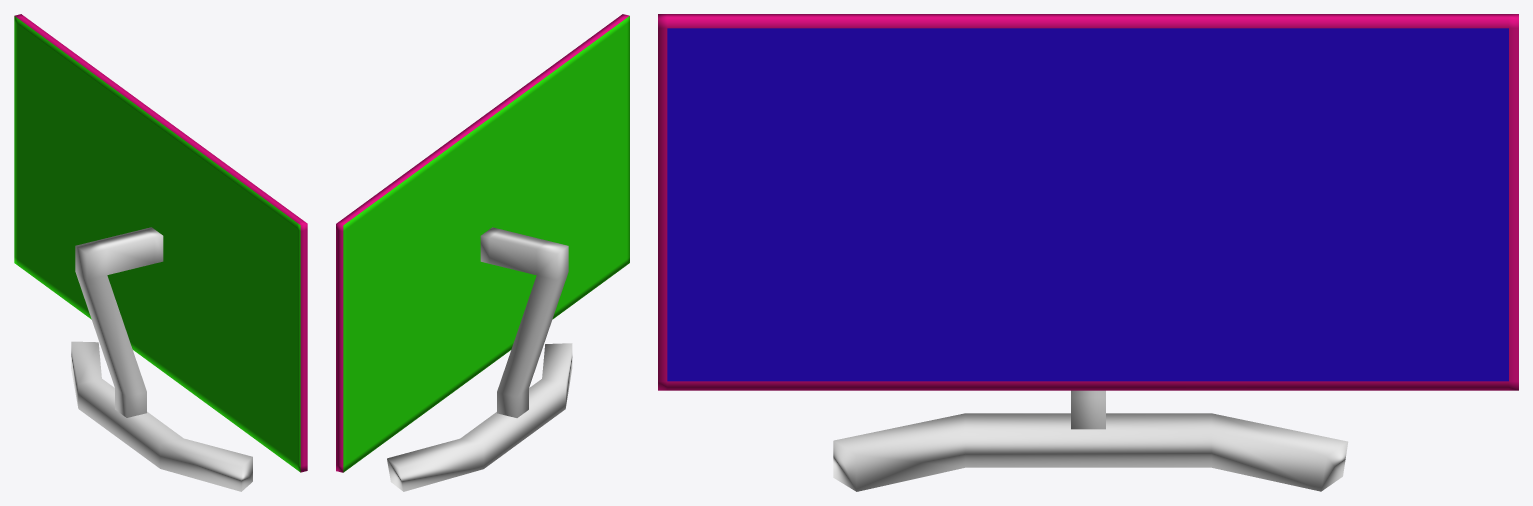
File: Computer.fbx
3 views of the same model, side by side, from view 1: azimuth 30°, elevation 25°; view 2: azimuth 150°, elevation 25°; view 3: azimuth 270°, elevation 25° (orthographic). The views are drawn at different scales.
Visible parts, largest first — view 1: Cube.002, Cube, Cube.001; view 2: Cube.002, Cube, Cube.001; view 3: Cube.002, Cube, Cube.001.
Boxes of the visible parts, x1,y1,x2,y2 form: Cube.002: [14, 14, 307, 472]; Cube: [71, 341, 252, 491]; Cube.001: [75, 227, 163, 417]; Cube.002: [336, 14, 629, 472]; Cube: [387, 343, 572, 491]; Cube.001: [480, 227, 568, 417]; Cube.002: [658, 14, 1518, 390]; Cube: [833, 413, 1348, 491]; Cube.001: [1071, 390, 1105, 429].
Size of the model in its own units: 4.09 by 12.5 by 21.
